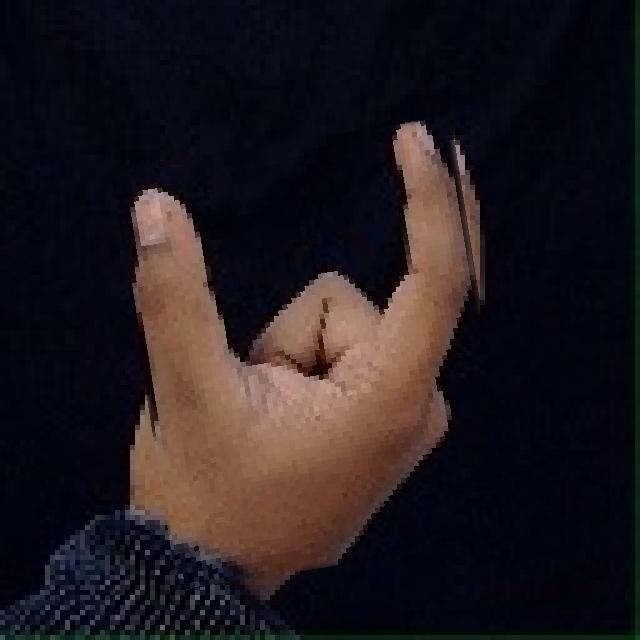U: (126, 127, 502, 578)
